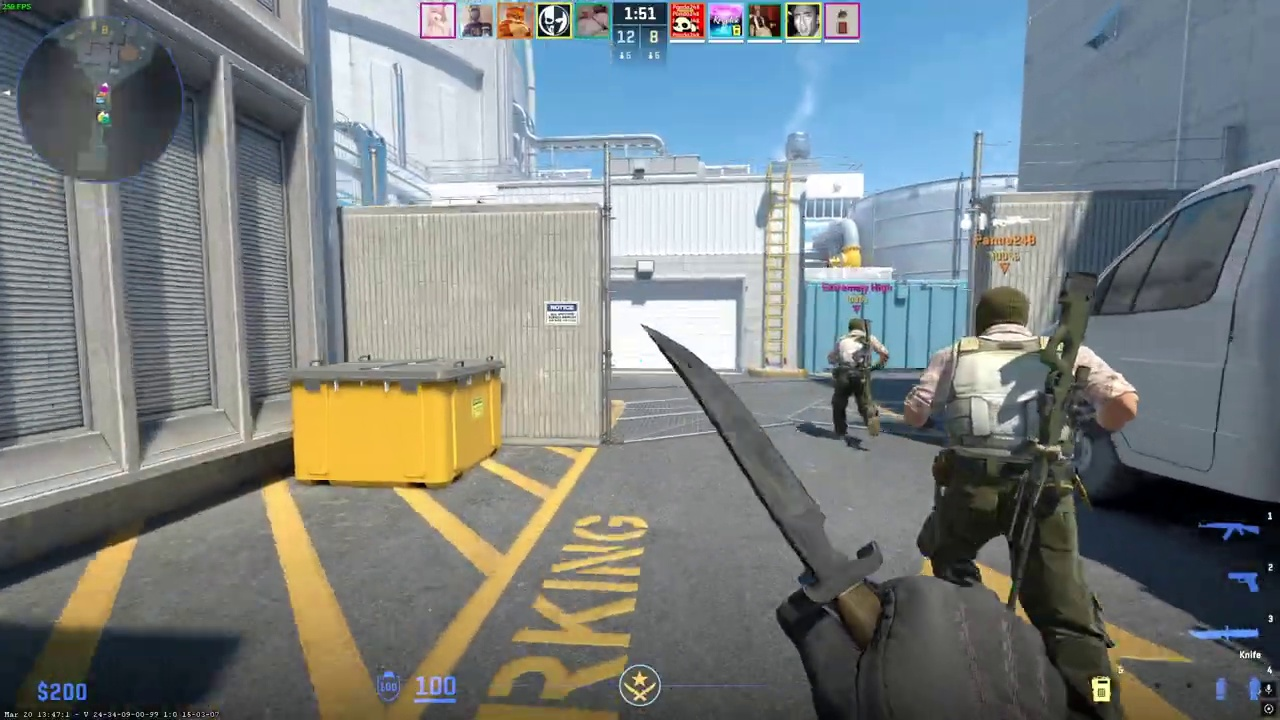Terrorist: (914, 285, 1131, 720), (827, 316, 884, 447)
